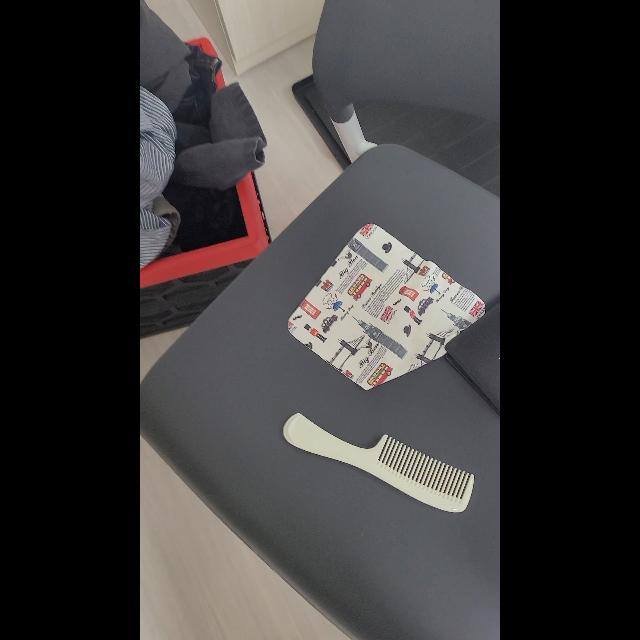COMB: (282, 412, 474, 512)
Glasses cleaning cloth: (286, 224, 487, 390)
WALLET: (444, 299, 500, 413)
